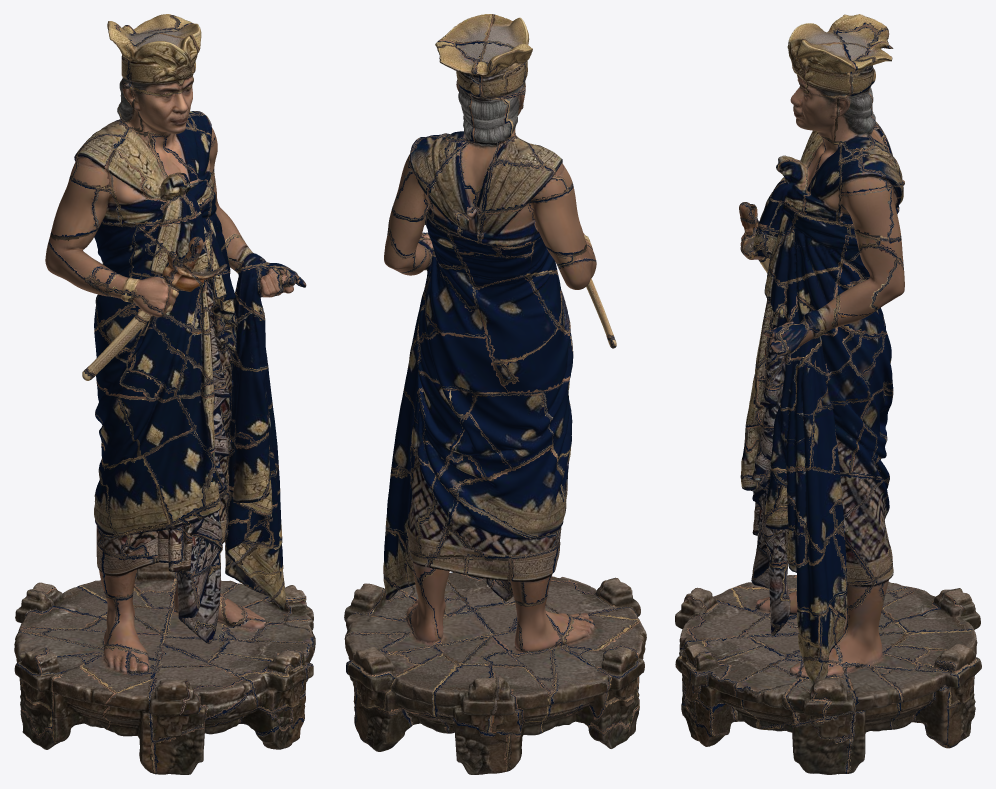
The model's file is gusti-ngurah-made-agung.glb.
The picture shows the model from 3 angles, left to right: view 1: azimuth 30°, elevation 25°; view 2: azimuth 150°, elevation 25°; view 3: azimuth 270°, elevation 25°; orthographic projection.
Parts seen in each view (by area): view 1: gusti-ngurah-made-agung; view 2: gusti-ngurah-made-agung; view 3: gusti-ngurah-made-agung.
Boxes of the visible parts, x1=… form: gusti-ngurah-made-agung: x1=14, y1=14, x2=315, y2=774; gusti-ngurah-made-agung: x1=344, y1=14, x2=646, y2=774; gusti-ngurah-made-agung: x1=675, y1=14, x2=981, y2=774.
Size of the model in its own units: 0.0169 by 0.04 by 0.0163.
1 material, 1 textured.
